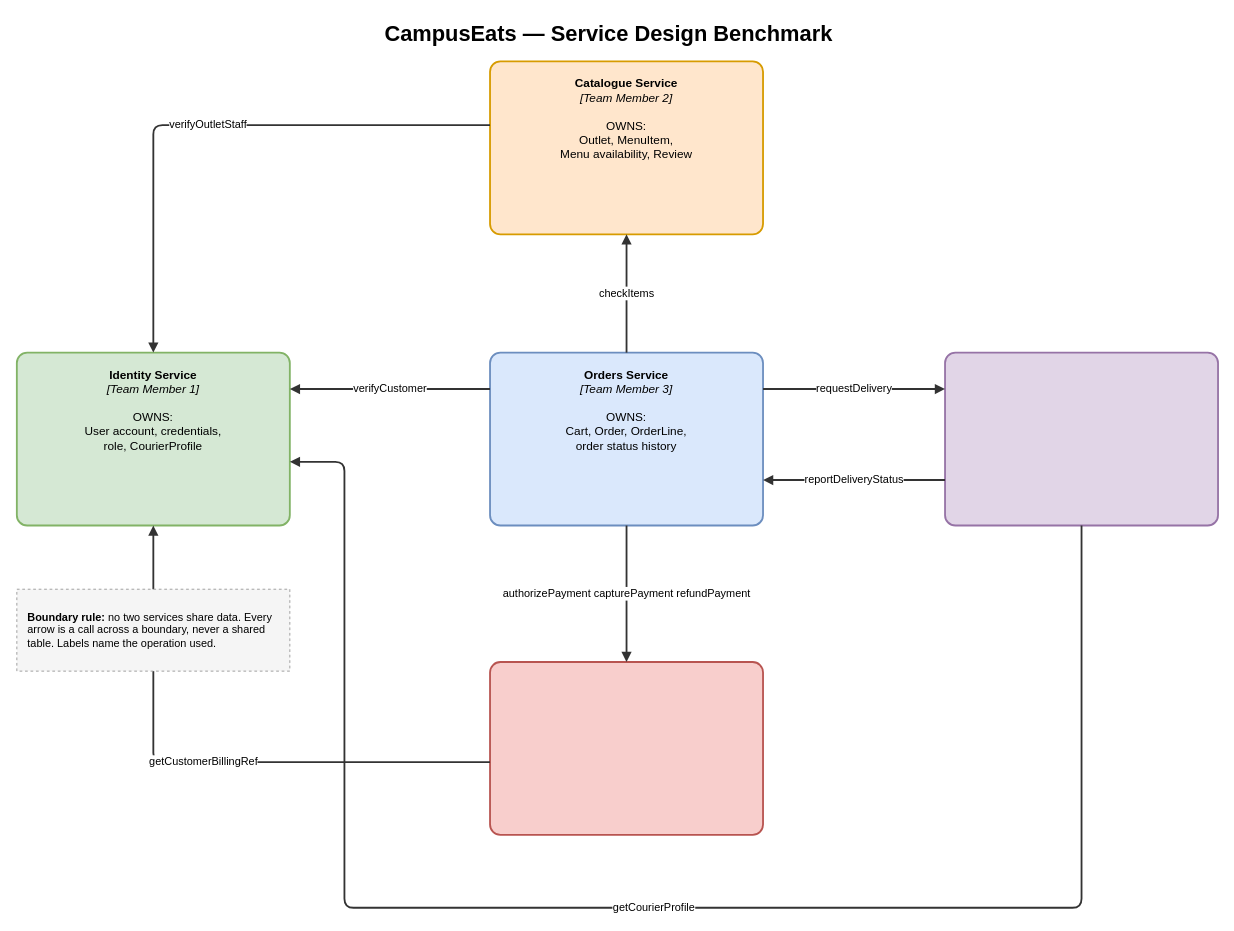
The diagram is 1234 pixels wide and 931 high, and some of its shapes have lost their labels. The shapes that lost their labels are listed below. From the top down, each one's centre as x and y in pixels, then its label:
At [1081,438]: "Delivery Service [Team Member 5] OWNS: Delivery, DeliveryOffer, CampusLocation".
At [626,748]: "Payments Service [Team Member 4] OWNS: Payment, Refund, provider reference".
